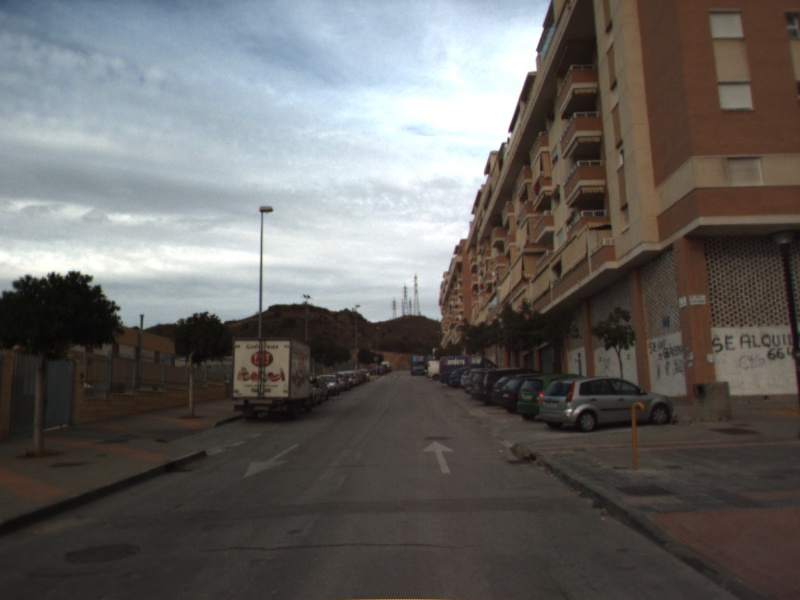STRAIGHT: (420, 439, 456, 475)
